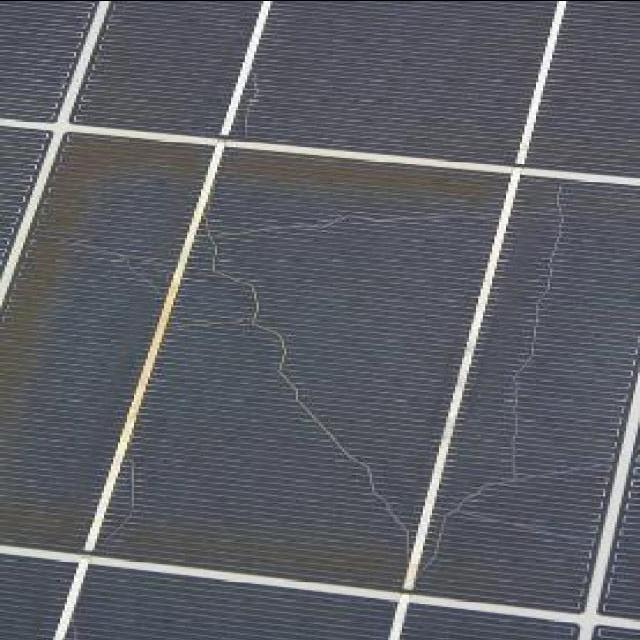cracked: (4, 3, 630, 637)
